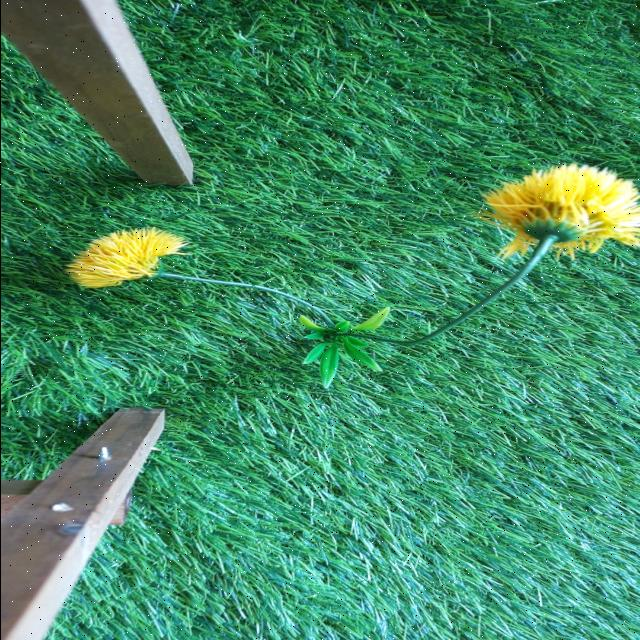base: (294, 308, 390, 390)
flower: (496, 160, 638, 255), (68, 230, 186, 290)
